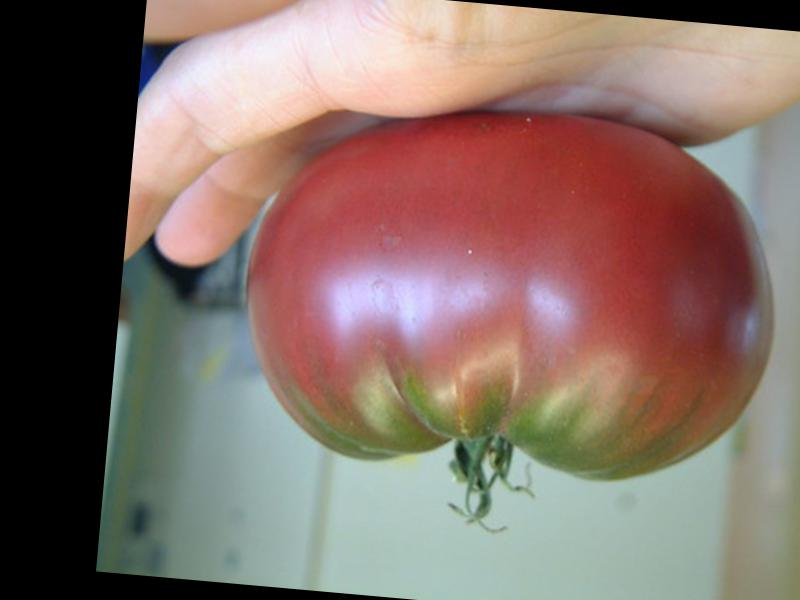Tomato: (232, 87, 790, 496)
